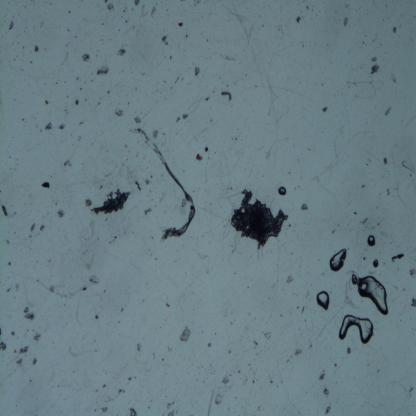Air bubble: (351, 276, 389, 316), (338, 314, 374, 347), (328, 247, 348, 272), (315, 290, 331, 311), (366, 235, 377, 249), (278, 185, 288, 196)
Background material: (232, 186, 288, 250), (91, 188, 131, 219), (220, 87, 235, 104), (23, 304, 36, 323), (92, 65, 111, 78), (369, 55, 380, 75), (179, 325, 191, 343), (32, 329, 43, 345), (55, 208, 68, 220), (16, 344, 30, 355), (88, 274, 102, 285), (166, 401, 177, 415), (390, 253, 406, 262), (0, 201, 8, 218), (60, 50, 68, 67), (155, 192, 167, 203), (83, 197, 94, 209), (116, 46, 127, 58), (389, 72, 399, 85), (114, 108, 127, 118), (221, 374, 230, 388), (160, 32, 169, 46), (384, 104, 393, 118), (103, 0, 114, 11), (42, 179, 52, 191), (293, 14, 303, 26), (134, 342, 144, 354), (263, 330, 273, 342), (214, 392, 224, 404), (143, 206, 153, 218), (82, 52, 91, 65), (152, 126, 160, 140), (370, 259, 381, 269), (286, 274, 296, 285), (44, 121, 54, 132), (134, 179, 142, 192), (181, 112, 191, 122), (195, 152, 204, 163), (362, 215, 370, 227), (382, 155, 390, 167), (134, 114, 142, 126), (194, 66, 202, 78), (294, 347, 303, 357), (300, 202, 309, 212), (0, 341, 8, 352), (13, 282, 20, 294), (57, 122, 66, 131), (128, 406, 137, 415), (116, 387, 125, 396), (318, 372, 326, 382), (408, 266, 416, 276), (99, 405, 109, 413), (31, 356, 38, 367), (385, 187, 392, 198), (73, 97, 80, 108), (410, 297, 416, 309), (180, 197, 186, 209), (29, 223, 37, 232), (8, 18, 14, 30), (15, 358, 24, 366), (323, 388, 330, 398), (342, 18, 349, 28), (321, 106, 329, 114), (64, 160, 72, 168), (324, 405, 331, 414), (392, 27, 399, 36), (50, 284, 56, 294), (39, 224, 46, 232), (203, 145, 210, 153), (142, 178, 150, 185), (177, 20, 184, 28), (164, 300, 171, 308), (205, 94, 212, 102), (253, 339, 258, 350), (34, 43, 39, 54), (346, 346, 352, 355), (44, 97, 50, 105), (175, 116, 181, 124), (0, 322, 3, 337), (134, 0, 141, 6), (78, 120, 84, 127), (95, 100, 101, 106), (176, 75, 180, 84), (82, 286, 88, 292), (94, 313, 99, 320), (180, 74, 184, 82), (119, 306, 124, 312), (268, 379, 274, 384), (123, 143, 128, 149), (301, 304, 304, 314), (77, 134, 82, 140), (372, 38, 378, 43), (169, 54, 173, 61), (333, 362, 337, 369), (67, 7, 71, 14), (7, 286, 11, 293), (5, 239, 10, 244), (101, 383, 106, 388), (21, 117, 26, 122), (12, 330, 16, 336), (207, 342, 211, 348), (108, 398, 114, 402), (353, 210, 357, 216), (362, 184, 366, 190), (66, 26, 70, 32), (306, 5, 310, 10), (54, 201, 58, 206), (75, 76, 80, 80), (109, 239, 113, 244), (161, 356, 165, 361), (114, 235, 118, 240), (8, 260, 11, 266), (332, 230, 336, 234), (79, 86, 83, 90), (238, 370, 242, 374), (64, 110, 68, 114), (90, 79, 94, 83), (251, 380, 255, 384), (368, 158, 371, 163), (150, 174, 153, 179), (125, 18, 128, 23), (107, 90, 110, 95), (28, 379, 31, 383), (228, 350, 231, 354), (30, 60, 33, 64), (235, 137, 238, 141), (126, 101, 130, 104), (296, 306, 300, 309), (128, 377, 132, 380), (102, 22, 105, 26), (362, 41, 364, 46), (162, 80, 166, 82), (56, 81, 58, 85), (142, 73, 146, 75), (64, 80, 66, 84), (366, 162, 368, 166), (100, 38, 103, 40), (14, 58, 16, 61), (152, 353, 154, 355), (123, 10, 125, 12), (121, 16, 122, 18)
Cotton: (128, 125, 196, 239)
Glass filter fibre: (264, 135, 288, 160), (222, 199, 236, 240), (82, 220, 96, 240), (401, 160, 416, 174), (140, 4, 150, 17)
